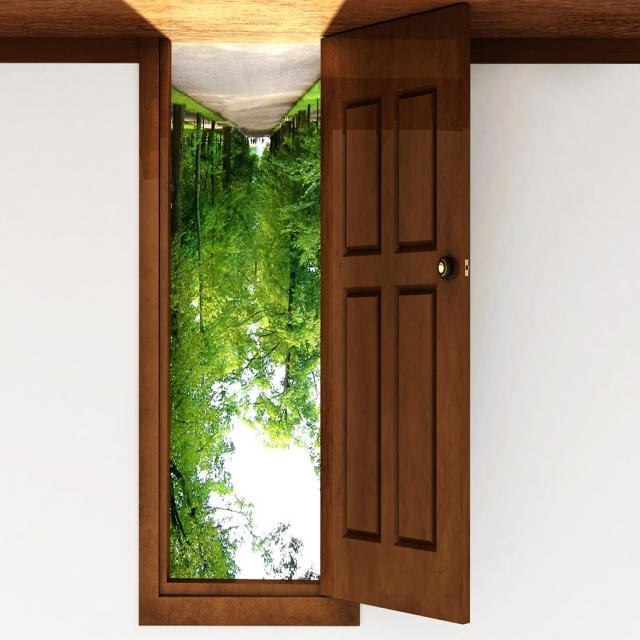open: (142, 35, 462, 617)
